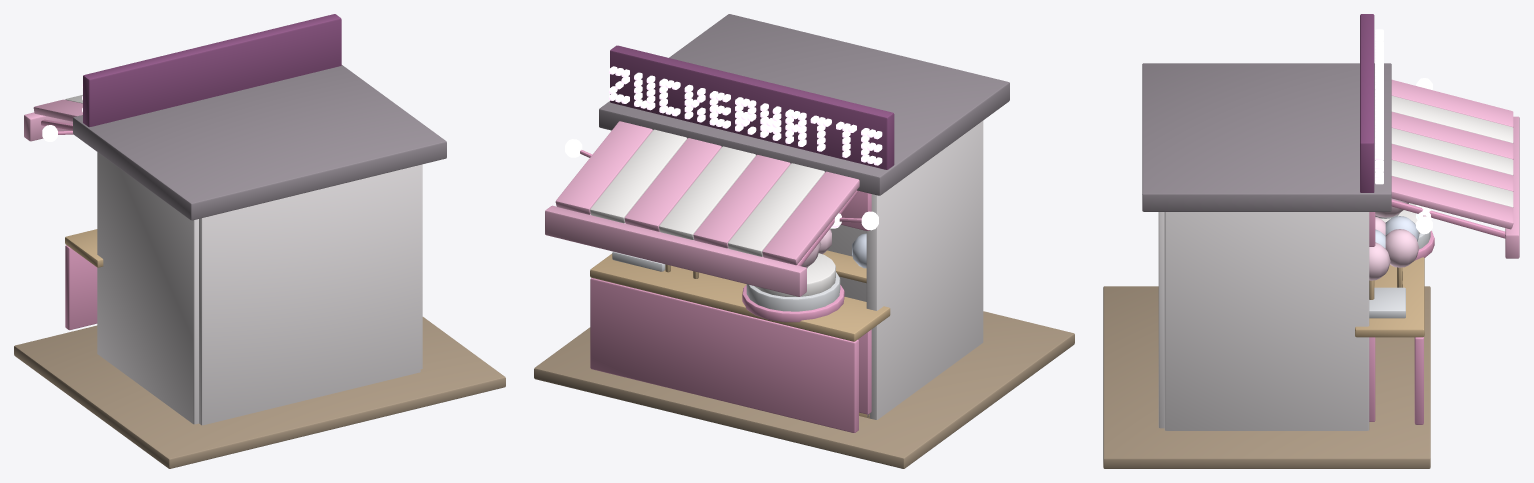
File: th13_zuckerwatte_stand.glb
The picture shows the model from 3 angles, left to right: view 1: azimuth 30°, elevation 25°; view 2: azimuth 150°, elevation 25°; view 3: azimuth 270°, elevation 25°; orthographic projection. The views are drawn at different scales.
Parts seen in each view (by area): view 1: Cube.002, Cube.009, Cube, Cube.003, Cube.020, Cube.008, Cube.007, Cube.010, Cube.017, Cube.004; view 2: Cube.009, Cube.003, Cube.008, Cube, Cube.020, Cube.017, Cube.007, Cube.010, Cube.014, Cube.016, Cube.013, Cube.015 (+9 smaller); view 3: Cube.004, Cube.009, Cube, Cube.016, Cube.007, Cube.020, Cube.015, Cube.011, Cube.010, Cube.012, Cube.014, Cube.013 (+9 smaller).
Boxes of the visible parts, box(x1,y1,x2,y2) form: Cube.002: box(199, 165, 420, 425); Cube.009: box(73, 65, 446, 220); Cube: box(14, 317, 505, 468); Cube.003: box(97, 152, 198, 424); Cube.020: box(83, 14, 341, 127); Cube.008: box(65, 245, 97, 330); Cube.007: box(65, 229, 103, 267); Cube.010: box(33, 99, 82, 121); Cube.017: box(24, 112, 72, 141); Cube.004: box(420, 164, 422, 369); Cube.009: box(599, 14, 1009, 195); Cube.003: box(866, 121, 983, 419); Cube.008: box(590, 278, 858, 432); Cube: box(534, 311, 1074, 468); Cube.020: box(610, 45, 894, 169); Cube.017: box(545, 205, 806, 296); Cube.007: box(590, 253, 890, 341); Cube.010: box(762, 171, 859, 265); Cube.014: box(624, 138, 721, 231); Cube.016: box(555, 121, 652, 214); Cube.013: box(659, 146, 756, 239); Cube.015: box(590, 129, 687, 223); Cube.004: box(1164, 212, 1369, 430); Cube.009: box(1142, 63, 1391, 211); Cube: box(1103, 286, 1430, 468); Cube.016: box(1391, 176, 1513, 229); Cube.007: box(1355, 257, 1424, 337); Cube.020: box(1360, 14, 1374, 192); Cube.015: box(1391, 160, 1513, 207); Cube.011: box(1391, 96, 1513, 143); Cube.010: box(1391, 79, 1513, 127); Cube.012: box(1391, 112, 1513, 159); Cube.014: box(1391, 144, 1513, 191); Cube.013: box(1391, 128, 1513, 175).
Size of the model in its own units: 4 by 3.29 by 4.07.
